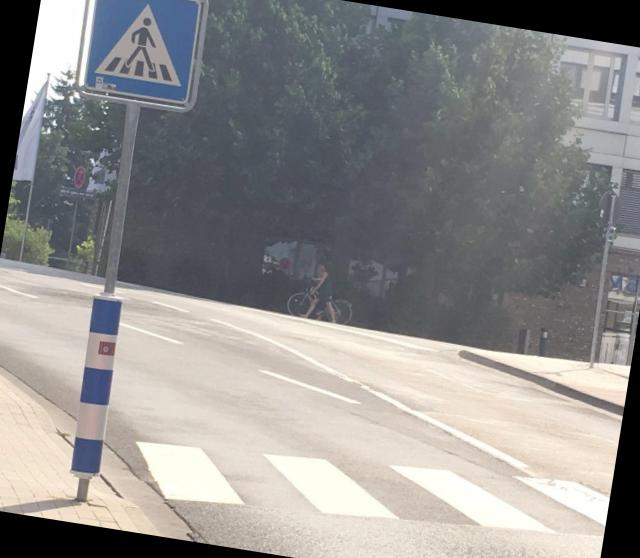crosswalk-sign: (72, 1, 215, 116)
